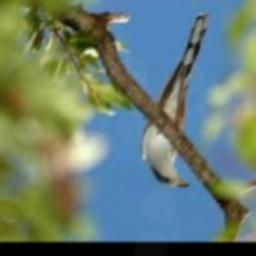Cuckoo: (141, 14, 207, 187)
